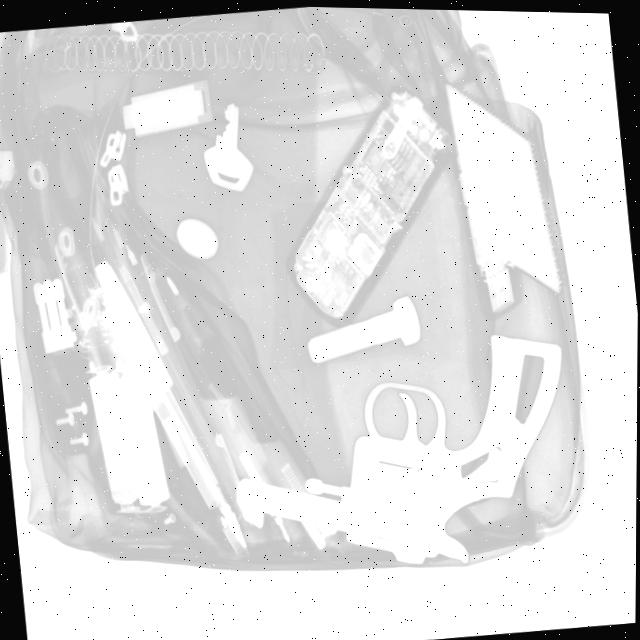pistol: (216, 314, 585, 582)
